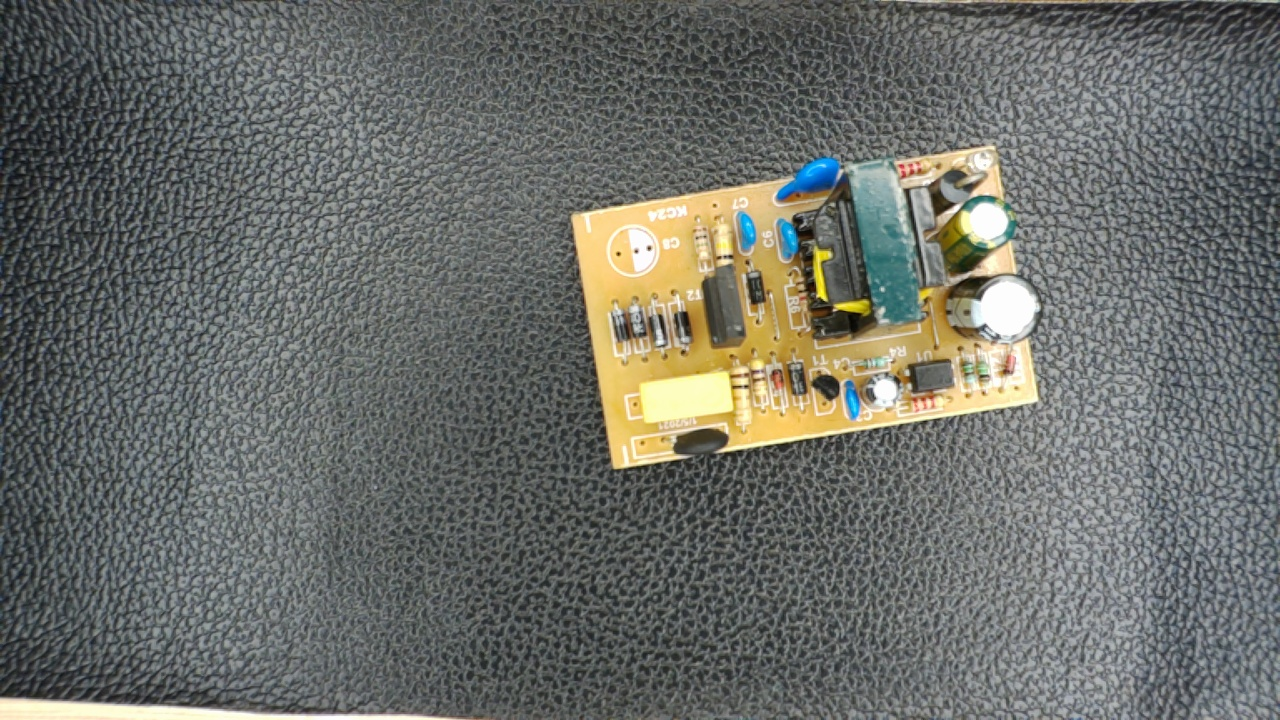fuse: (653, 426, 737, 459)
mov: (768, 153, 845, 206)
optocoupler: (900, 354, 959, 396)
